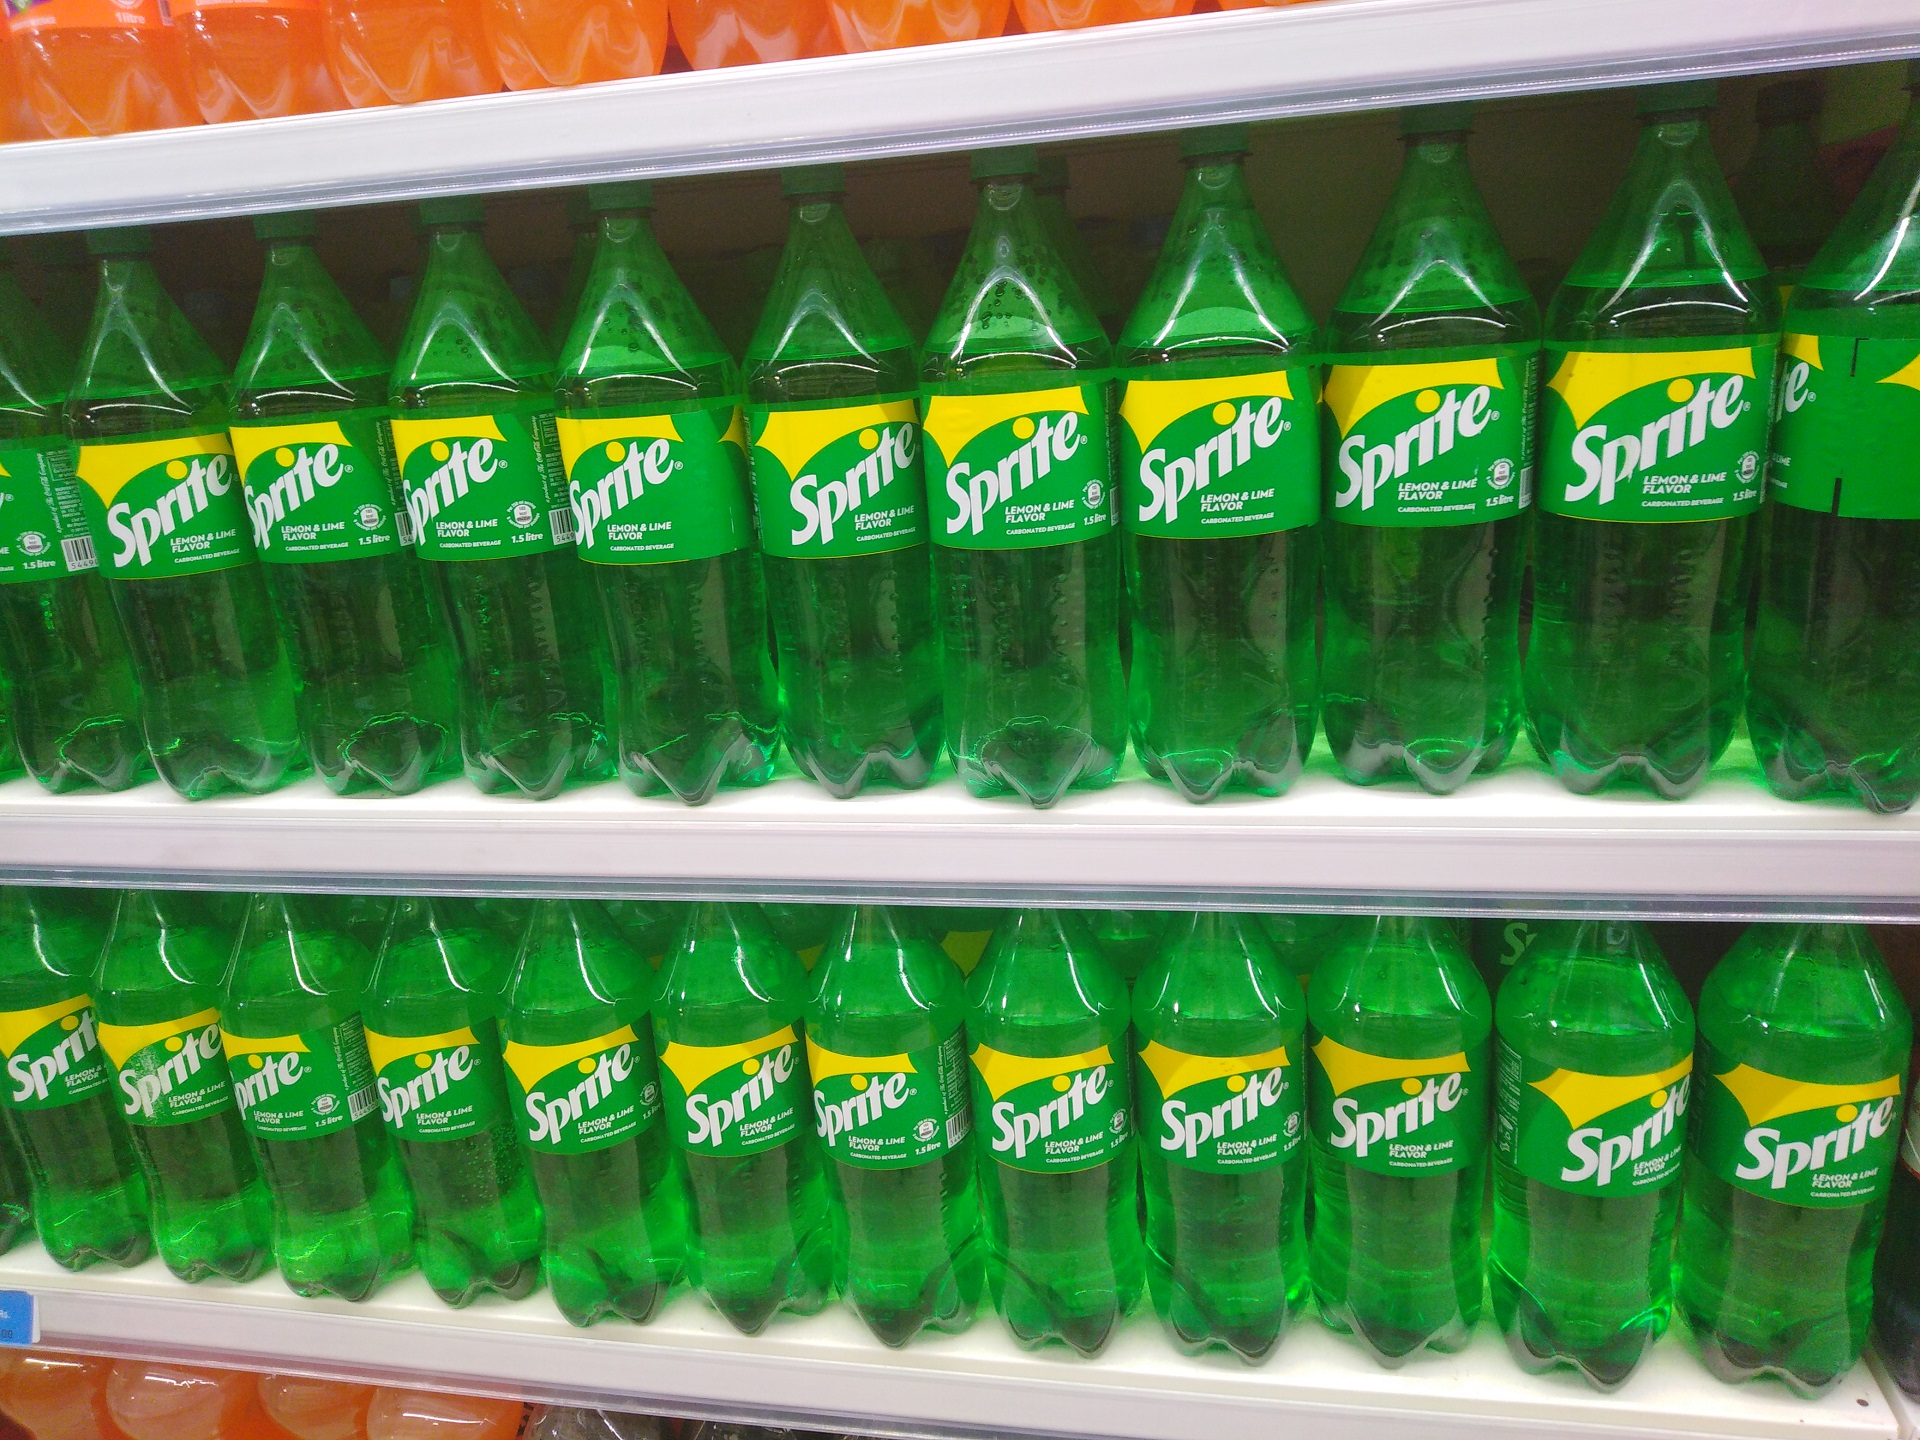sprite: (1565, 372, 1742, 505), (1333, 387, 1485, 516), (1141, 399, 1282, 529), (942, 416, 1079, 538), (97, 455, 236, 569), (791, 425, 916, 545), (1733, 1097, 1890, 1190), (1559, 1072, 1690, 1184), (570, 442, 673, 558), (680, 1047, 794, 1150), (993, 1066, 1108, 1168), (525, 1045, 633, 1147), (1327, 1075, 1459, 1159), (245, 445, 352, 545), (1163, 1072, 1285, 1159), (405, 439, 502, 545), (116, 1024, 222, 1118), (373, 1045, 476, 1134), (8, 1016, 97, 1100), (813, 1072, 909, 1150), (234, 1051, 307, 1122)
